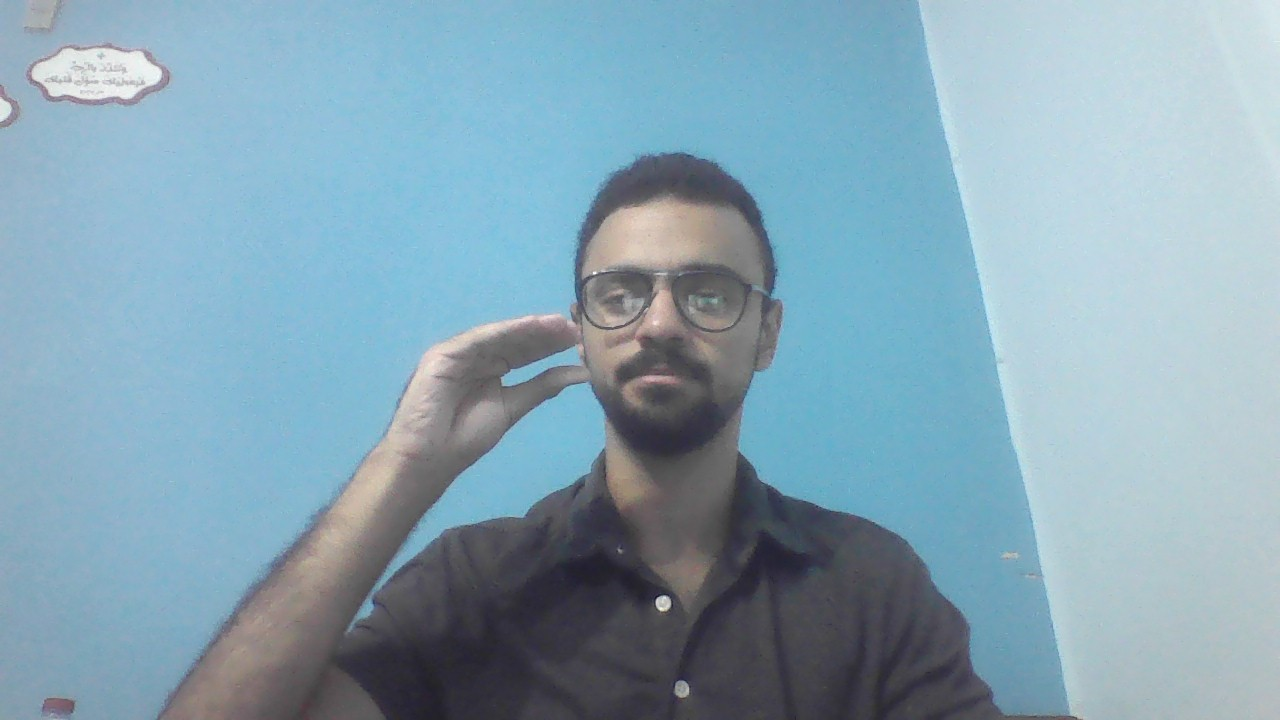eat: (389, 309, 595, 450)
